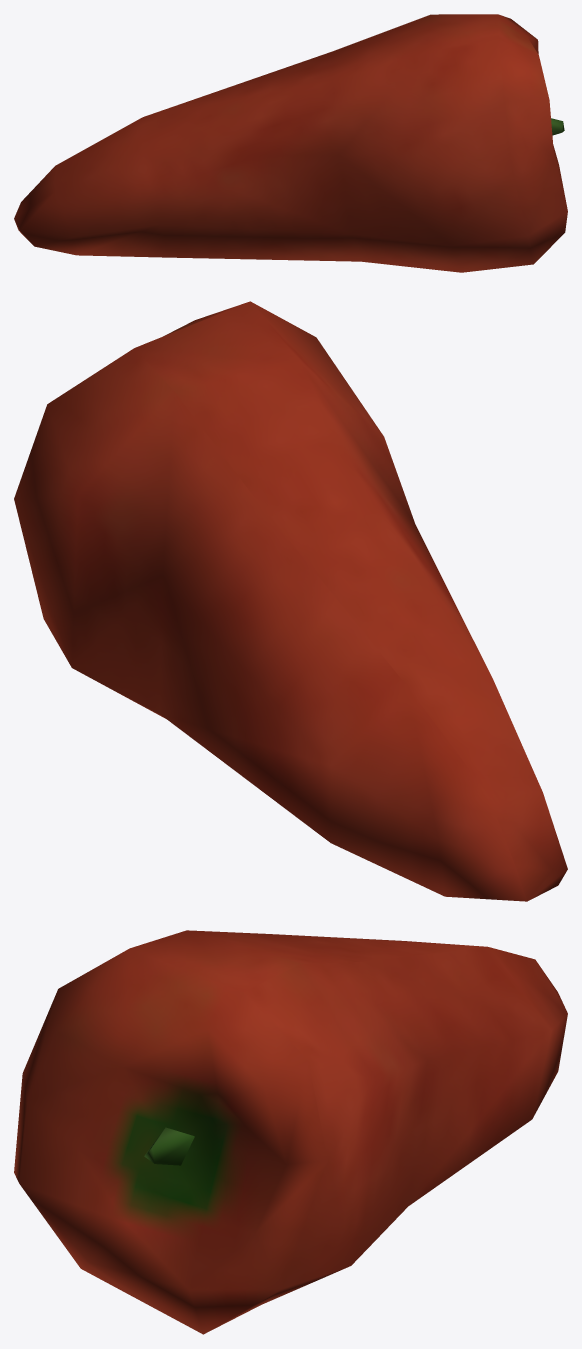
The model's file is SM_SP_Vegs_Paprika03.fbx.
3 views of the same model, one above another, from view 1: azimuth 30°, elevation 25°; view 2: azimuth 150°, elevation 25°; view 3: azimuth 270°, elevation 25° (orthographic). The views are drawn at different scales.
Visible parts, largest first — view 1: SM_SP_Vegs_Paprika03_LOD0; view 2: SM_SP_Vegs_Paprika03_LOD0; view 3: SM_SP_Vegs_Paprika03_LOD0.
Boxes of the visible parts, bbox=[...] form: SM_SP_Vegs_Paprika03_LOD0: bbox=[14, 14, 567, 272]; SM_SP_Vegs_Paprika03_LOD0: bbox=[14, 301, 567, 901]; SM_SP_Vegs_Paprika03_LOD0: bbox=[14, 930, 567, 1334].
Bounding box in the file's own units: 12.84 × 9.75 × 6.82.
1 material, 1 textured.
